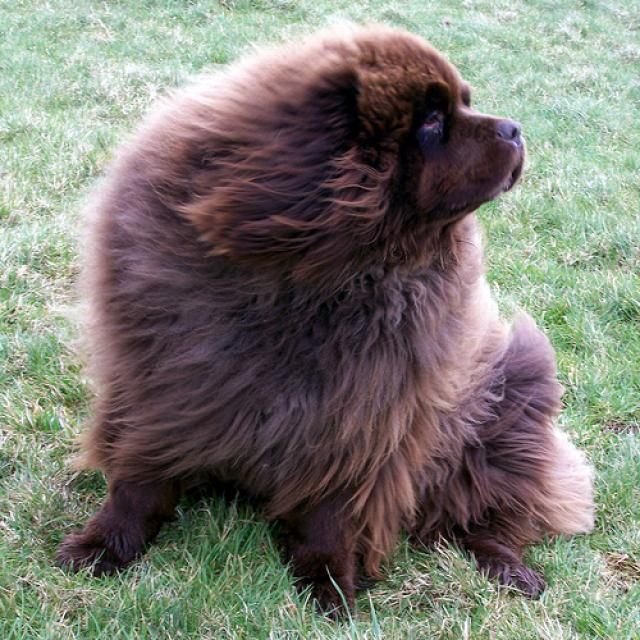dog-newfoundland: (56, 14, 596, 618)
